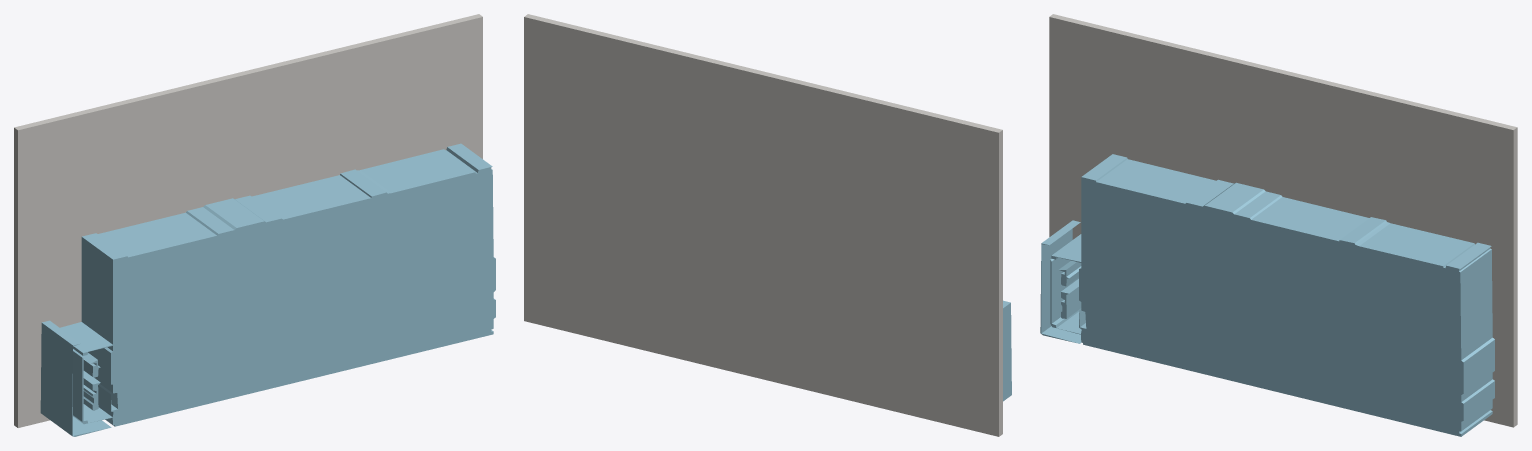
3 views of the same model, side by side, from view 1: azimuth 30°, elevation 25°; view 2: azimuth 150°, elevation 25°; view 3: azimuth 330°, elevation 25° (orthographic). The views are drawn at different scales.
Parts seen in each view (by area): view 1: world; view 2: world; view 3: world.
Part boxes in pixels (<box>): world: <box>14,14,495,436</box>; world: <box>524,14,1011,436</box>; world: <box>1040,14,1517,436</box>.
Bounding box in the file's own units: 10.23 × 6.26 × 1.35.
